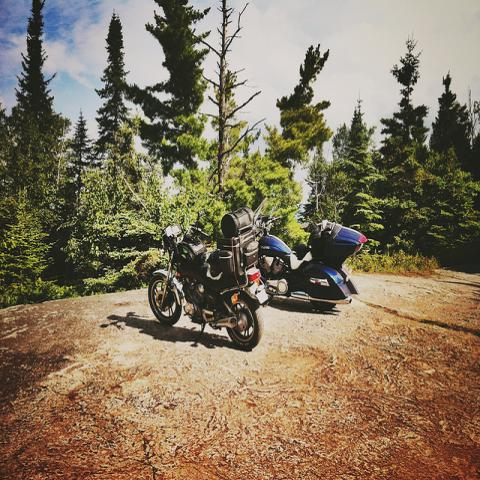motorcycle: (146, 203, 270, 350), (257, 213, 367, 307)
